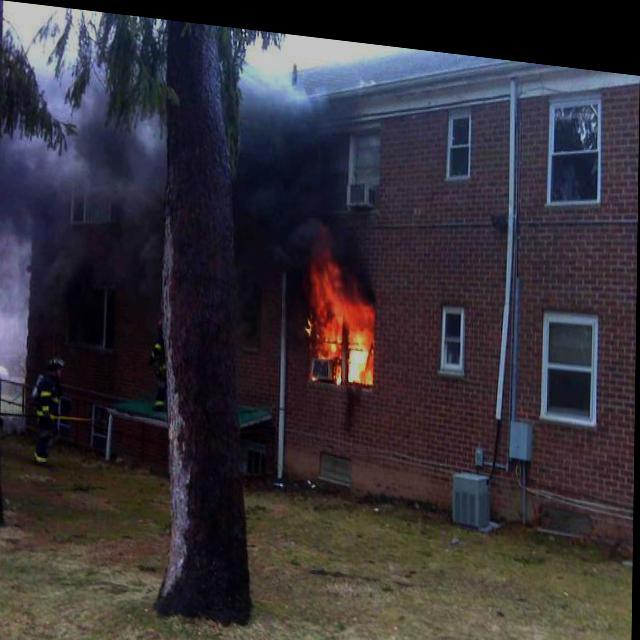Fire: (304, 229, 378, 378)
